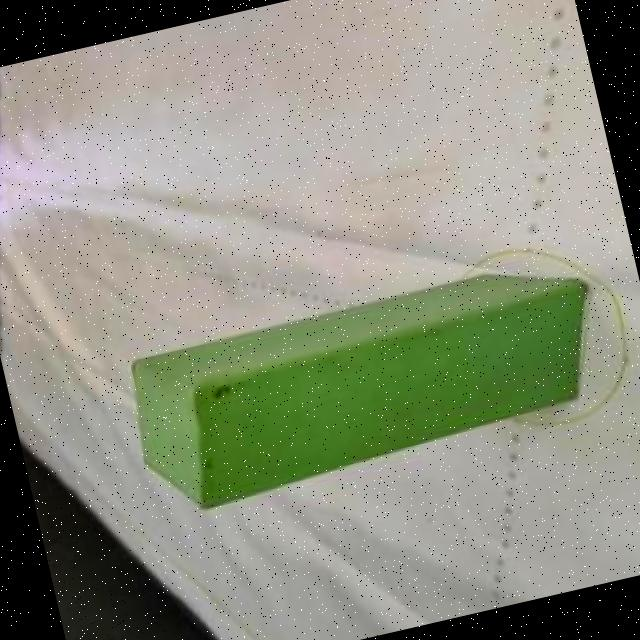greenbox: (119, 247, 622, 522)
